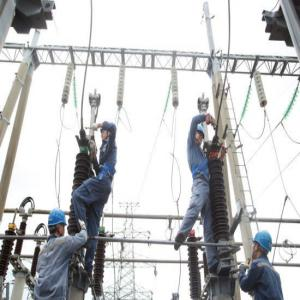blue: (249, 228, 273, 263), (47, 208, 69, 240), (192, 123, 205, 146), (100, 123, 112, 141)
